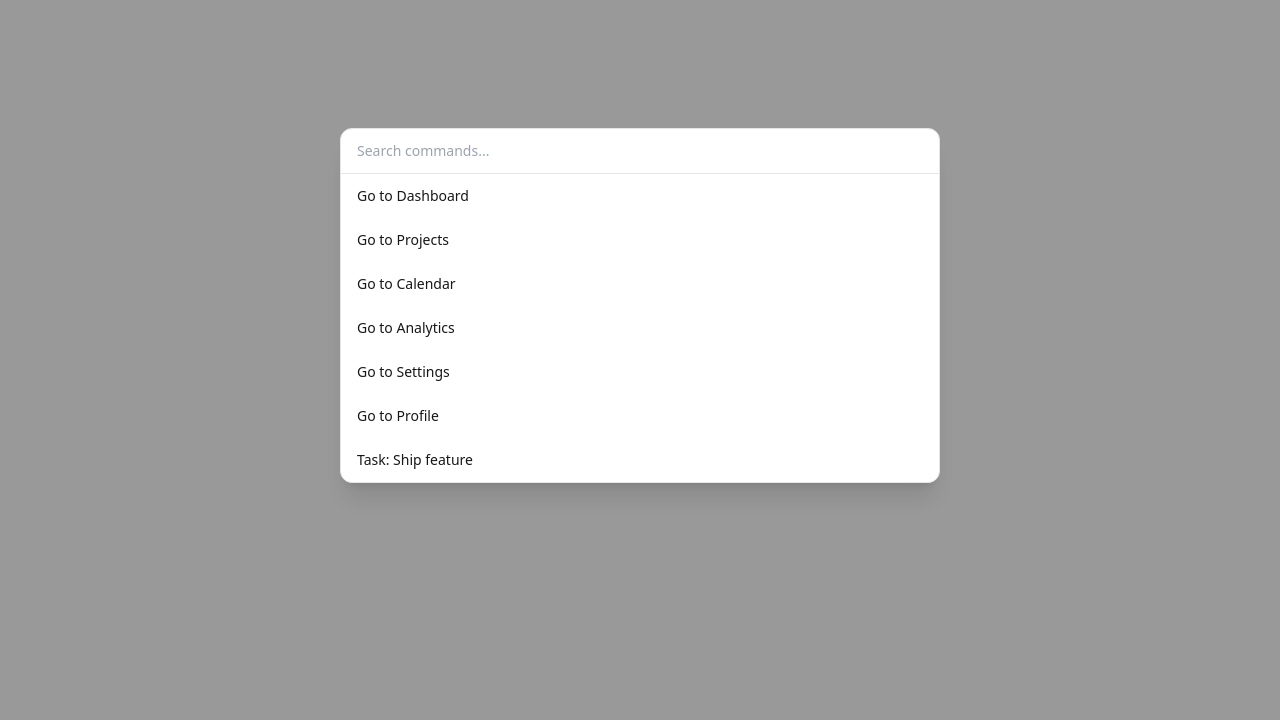
Scenario: CommandPalette › shows empty state when there are no matching results
The width and height of the screenshot is (1280, 720).
Type "zzzz" into the field with placeholder "Search commands..." at (640, 152), box x1=341 y1=129 x2=939 y2=174
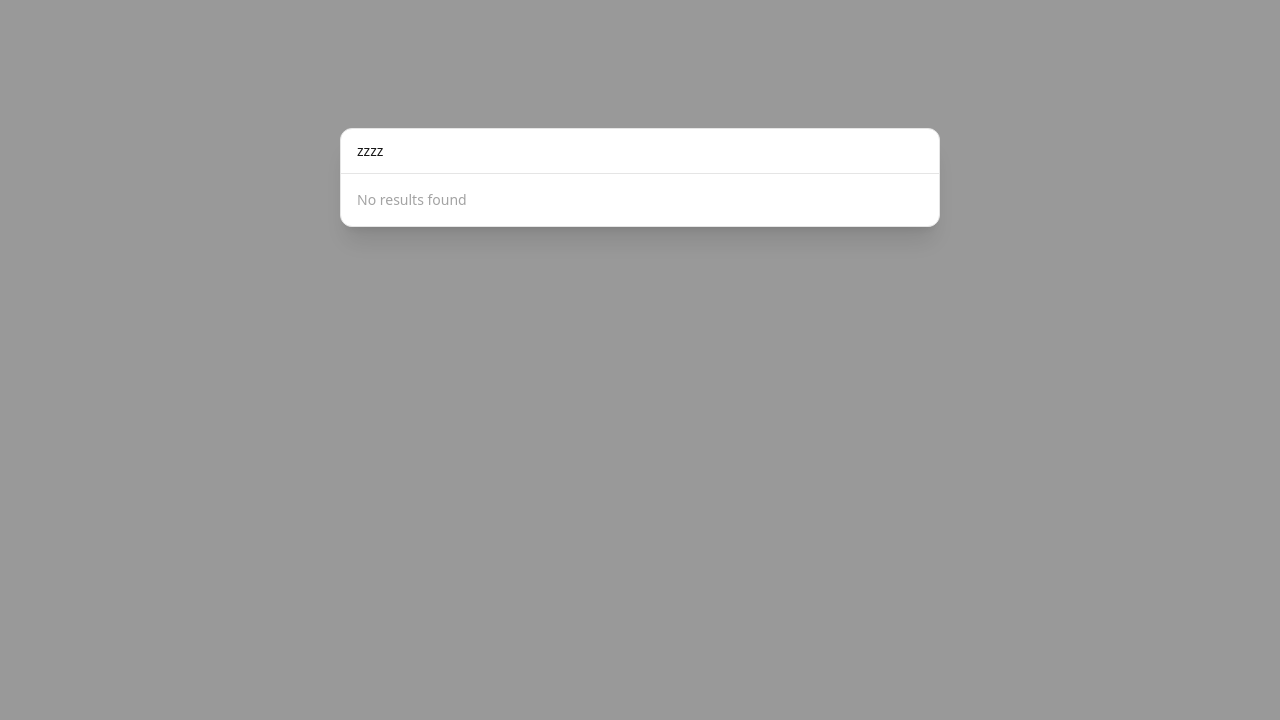
Expected: the text "No results found" is shown, x1=357 y1=190 x2=467 y2=209
